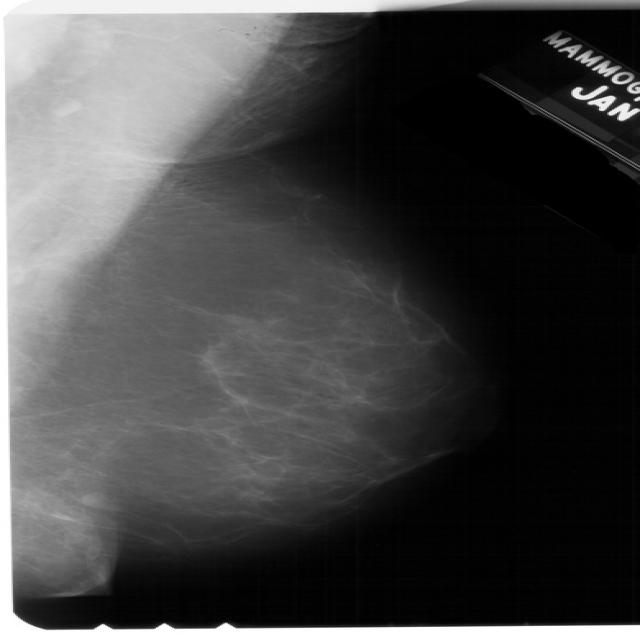tumour: (77, 491, 113, 506)
